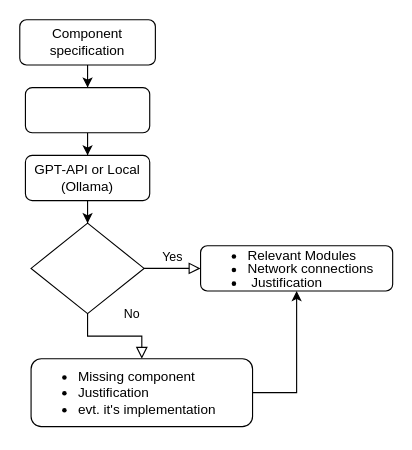
This 412x450 diagram has some shape labels left out. The shapes that lost their labels are listed below. From the top down, each one's centre as x and y in pixels, then its label:
the point at 87,109: Prompt engineering
the point at 87,268: All modules exist ?
